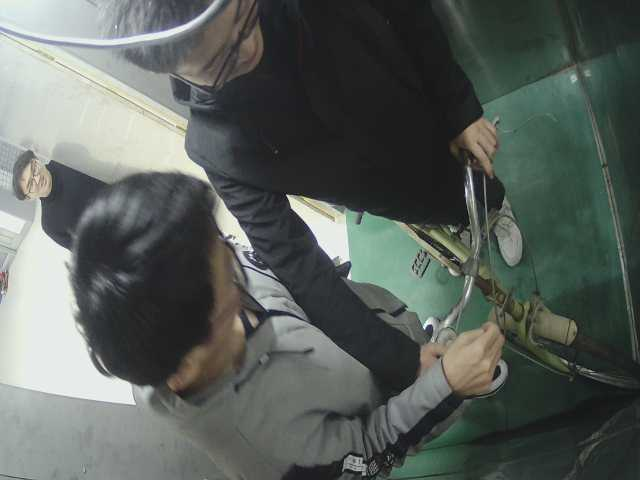bicycle: (363, 163, 636, 395)
person: (65, 170, 504, 480), (99, 1, 530, 271), (12, 146, 115, 253)
